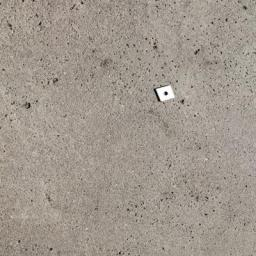FOD: (154, 82, 180, 109)
